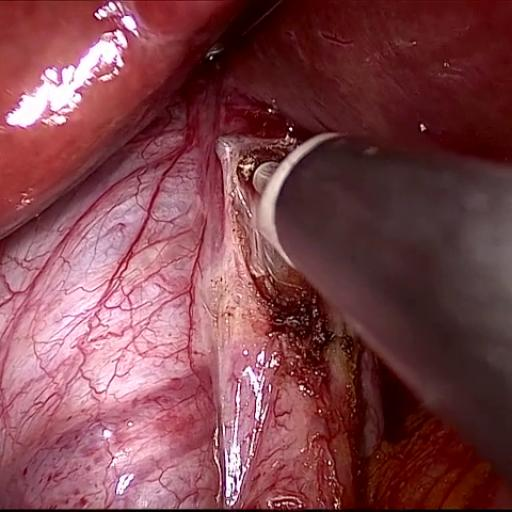Hook: (242, 119, 350, 276)
